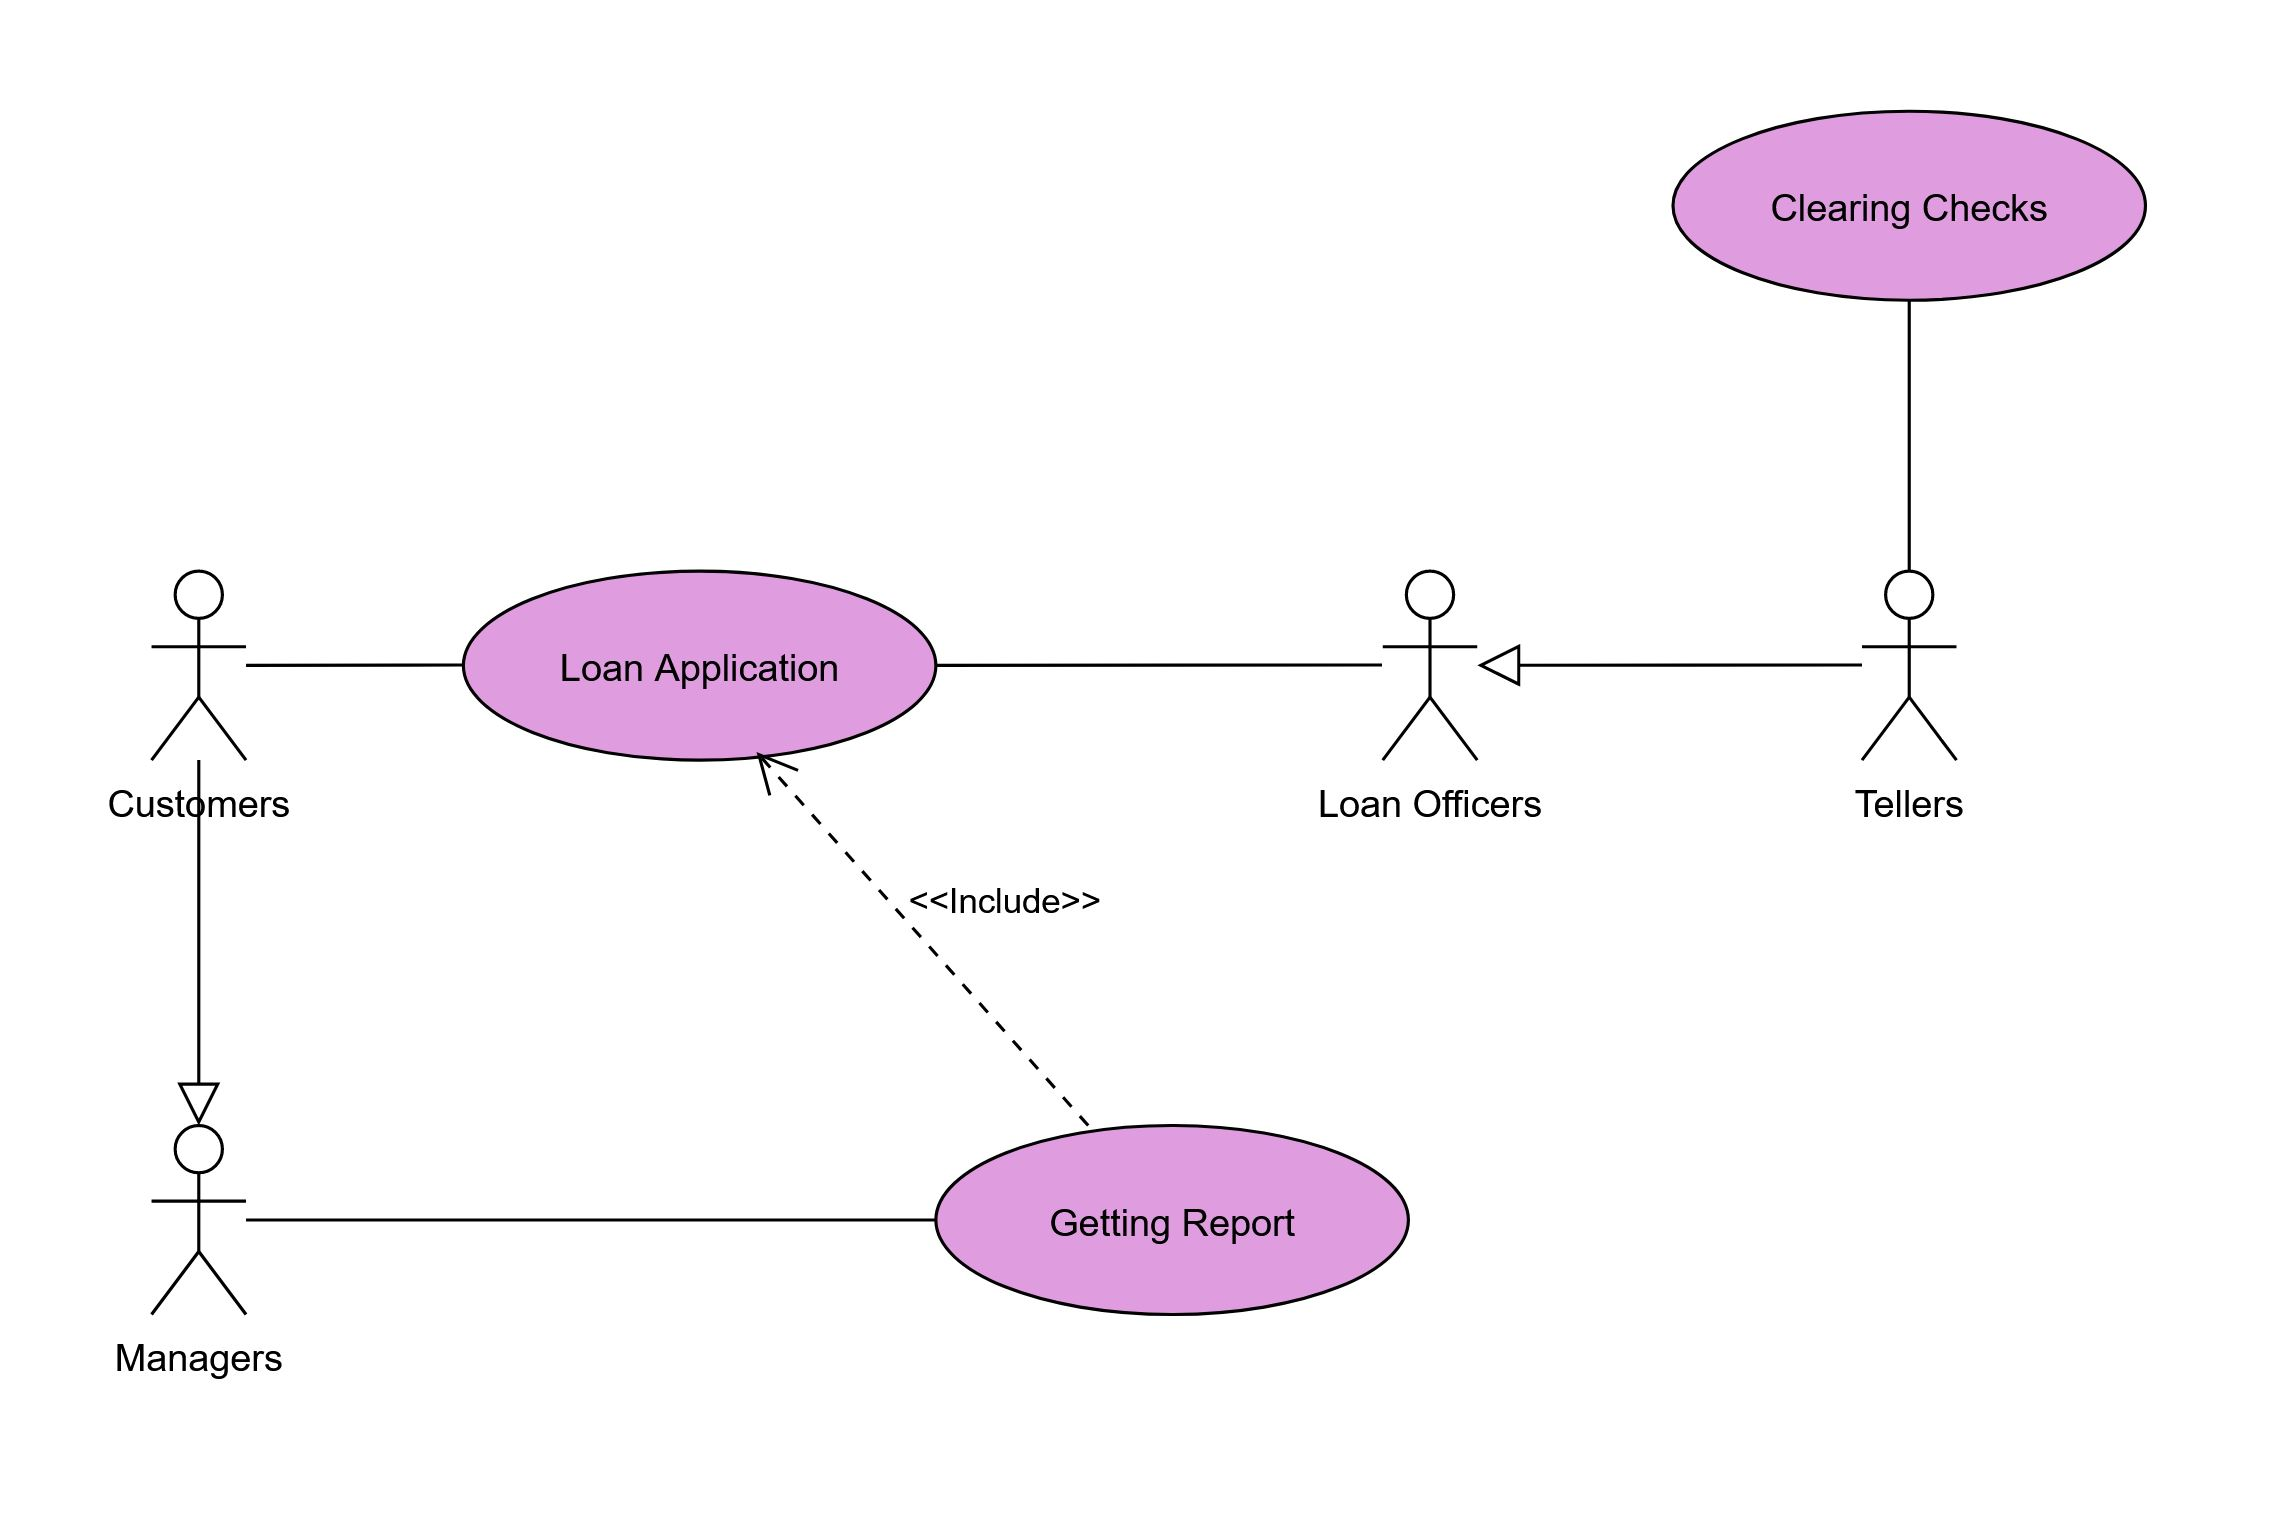actor: (145, 1123, 253, 1325), (1377, 568, 1486, 769), (146, 566, 252, 771), (1859, 573, 1962, 767)
association: (757, 748, 1097, 1128), (252, 1192, 934, 1238), (173, 764, 231, 1124), (939, 638, 1383, 684), (1480, 641, 1855, 691), (1893, 306, 1934, 570), (247, 641, 463, 685)
text: (1029, 1187, 1308, 1250), (1769, 180, 2054, 231), (553, 641, 845, 691), (1309, 781, 1551, 828), (90, 777, 301, 832), (903, 878, 1116, 924), (107, 1332, 298, 1378), (1854, 782, 1985, 825)
use_case: (1670, 107, 2150, 306), (459, 566, 940, 764), (934, 1123, 1413, 1318)
